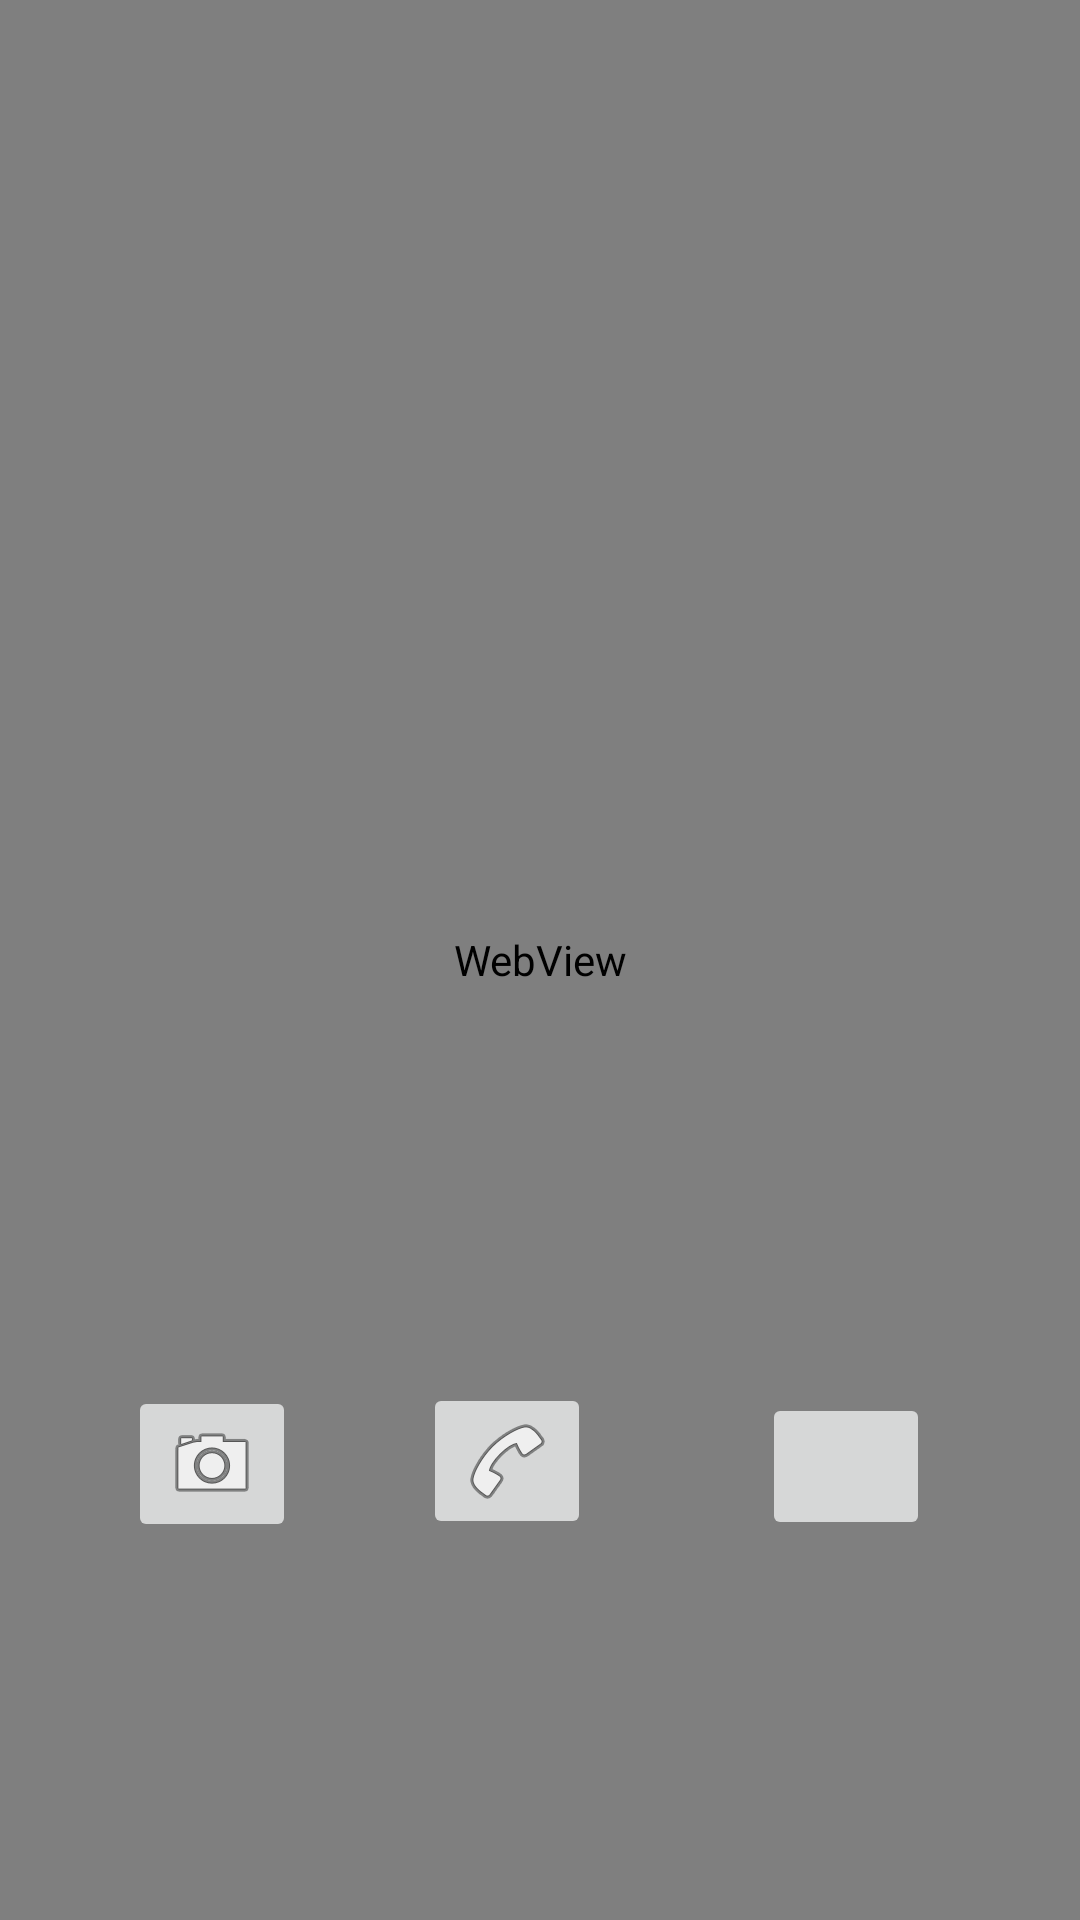

Screen size 1080w x 1920h. Icon name, then its center in pixels as point (x, y):
call: point (507, 1461)
camera: point (212, 1464)
